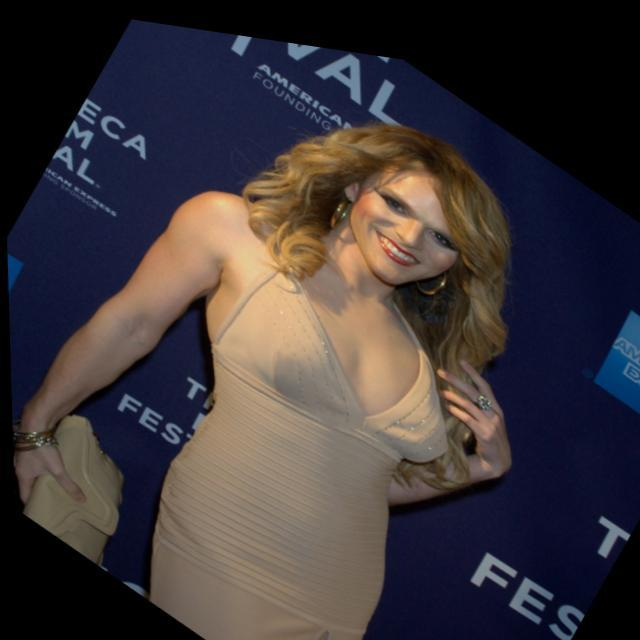Nonhelmet: (329, 113, 502, 319)
